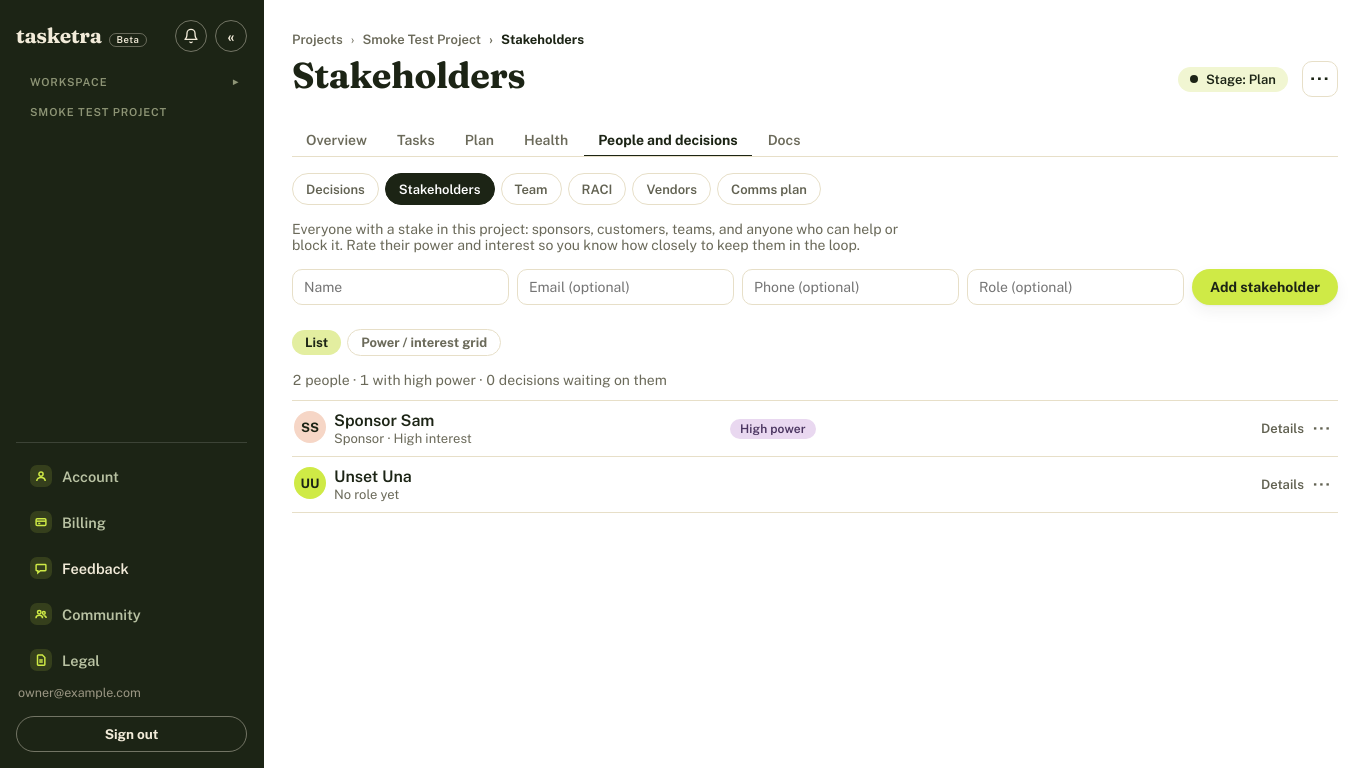
project page smoke test › Stakeholders tab with data: list shows each person's power, grid view places people
Click the button "Power / interest grid" at x=424, y=342, box [347,329,501,356]
(page scrolled)
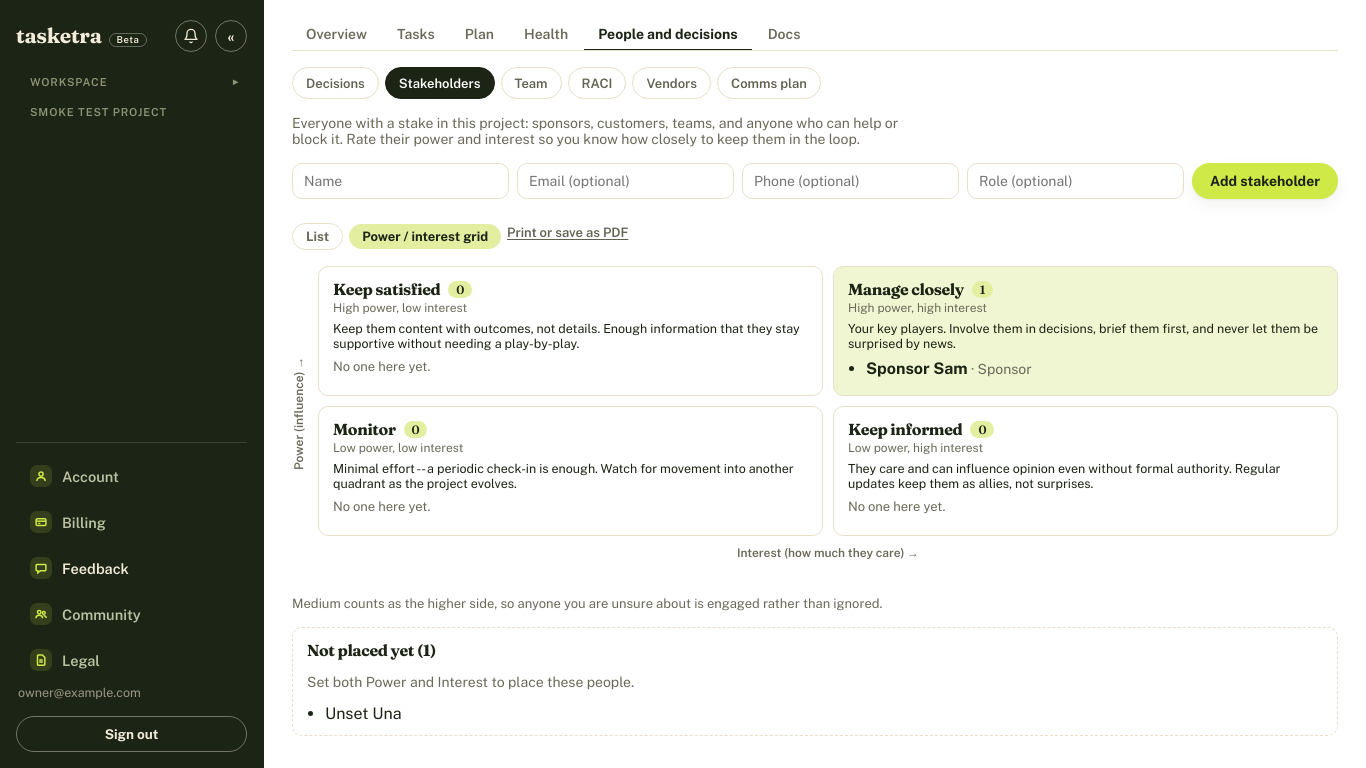
expect the element with class "sh-quad-manage_closely" shows "Sponsor Sam": met, box [866,359,968,378]
expect the element with class "sh-unplaced" shows "Unset Una": met, box [325,704,402,723]
